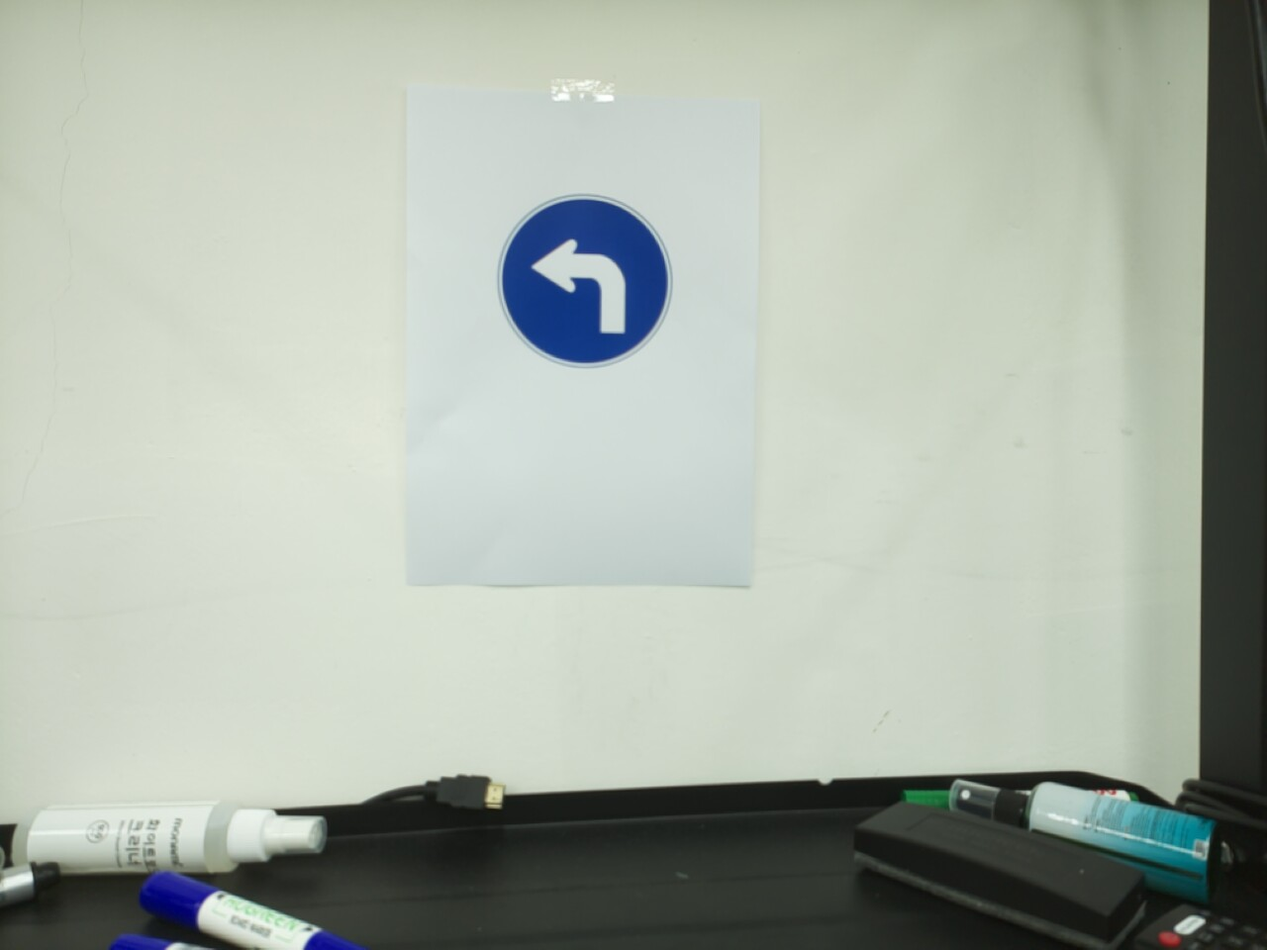left_turn: (495, 192, 675, 370)
